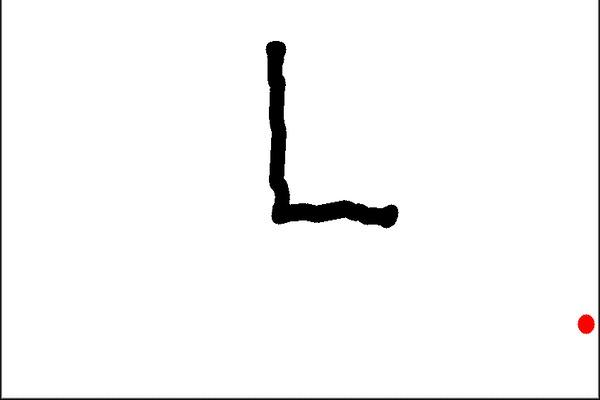L: (255, 30, 404, 239)
